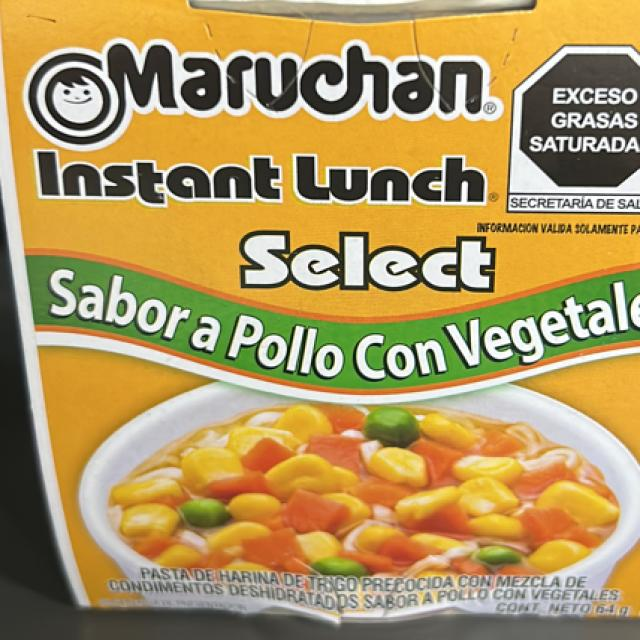maruchanPollo: (7, 8, 640, 618)
